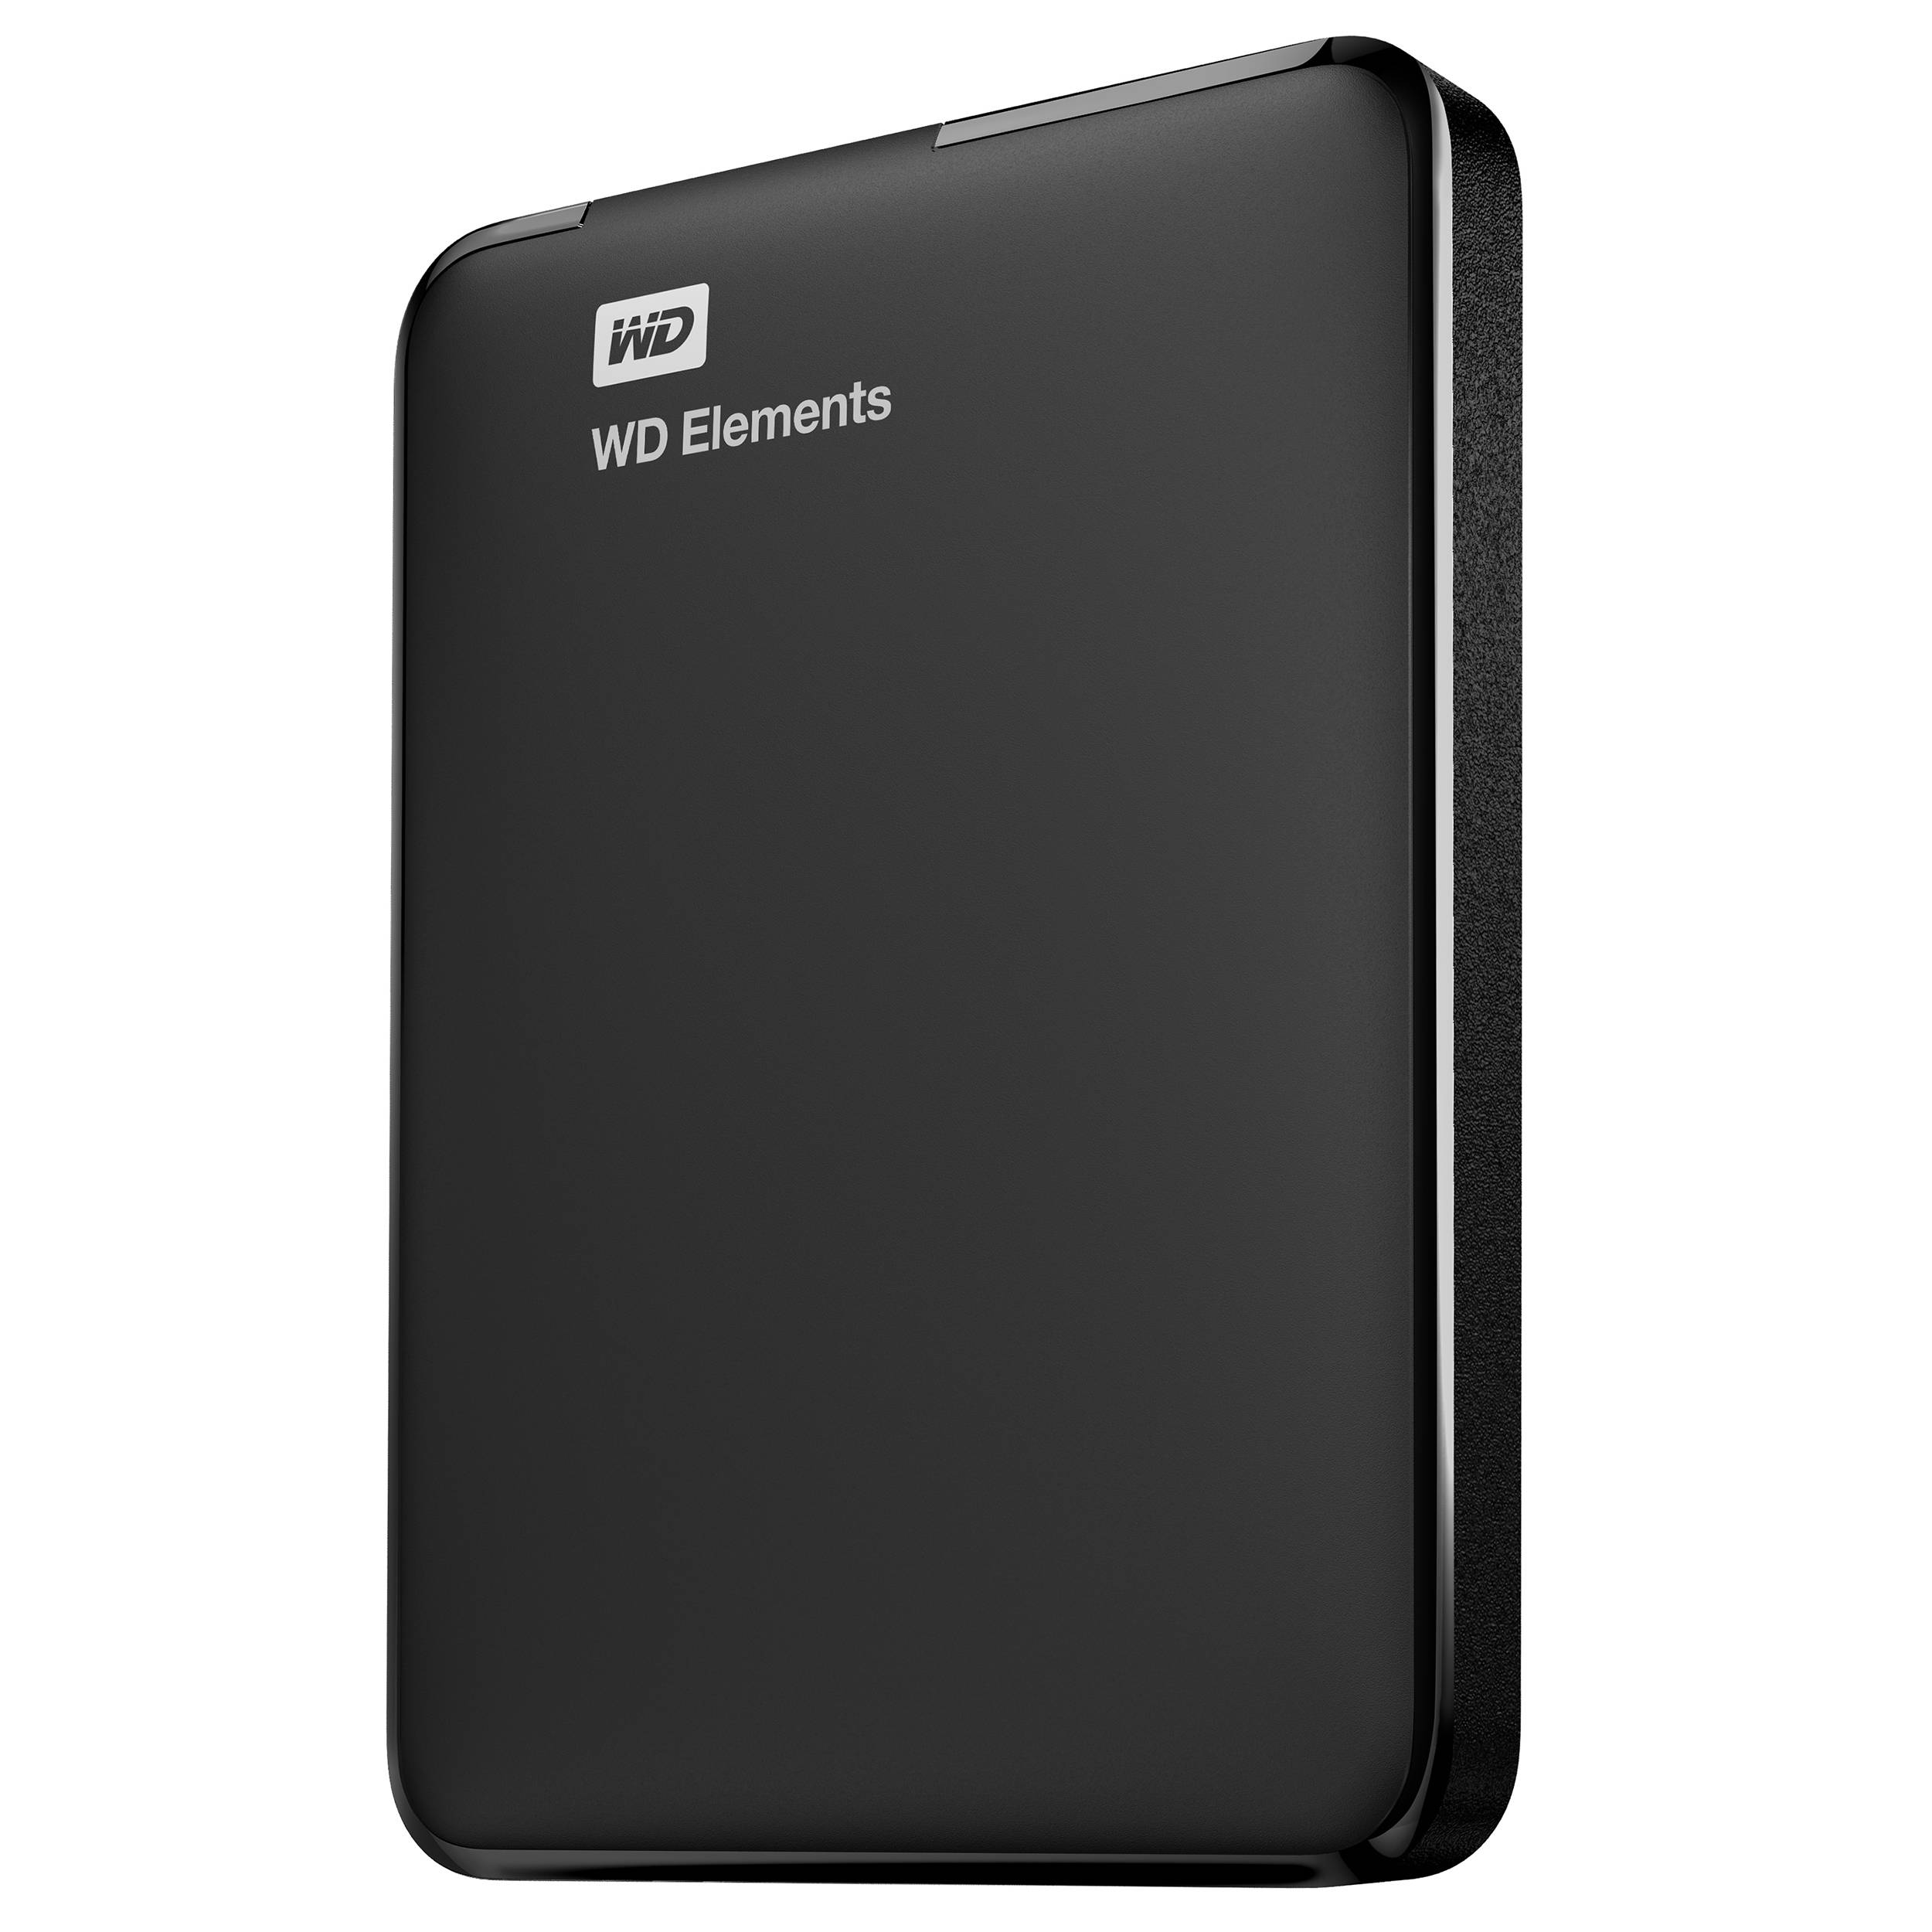Portable Hard Drive: (299, 18, 1594, 1914)
